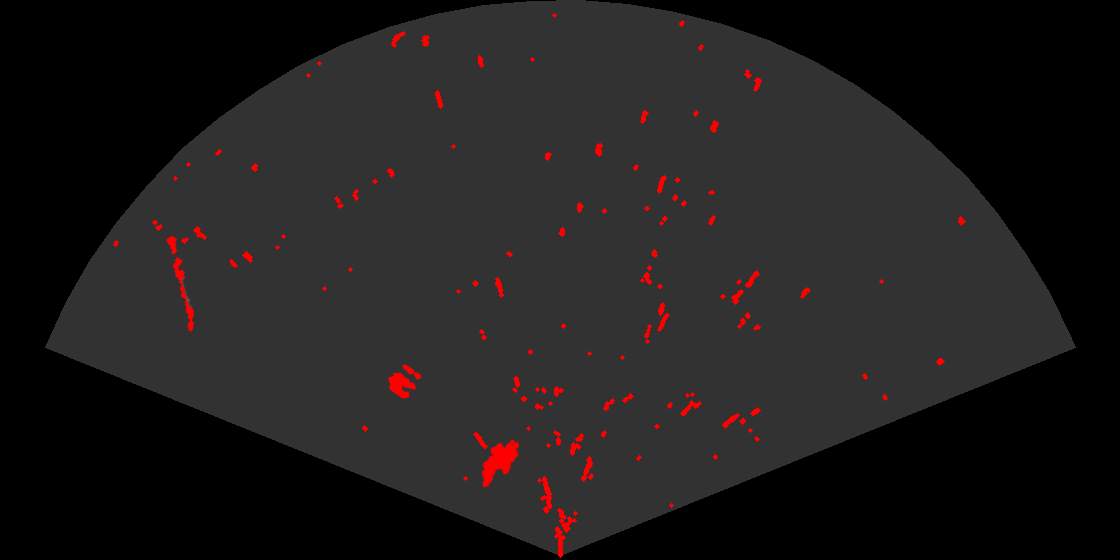AUV: (479, 438, 521, 489)
ball: (387, 363, 423, 400)
chain: (165, 233, 196, 333)
